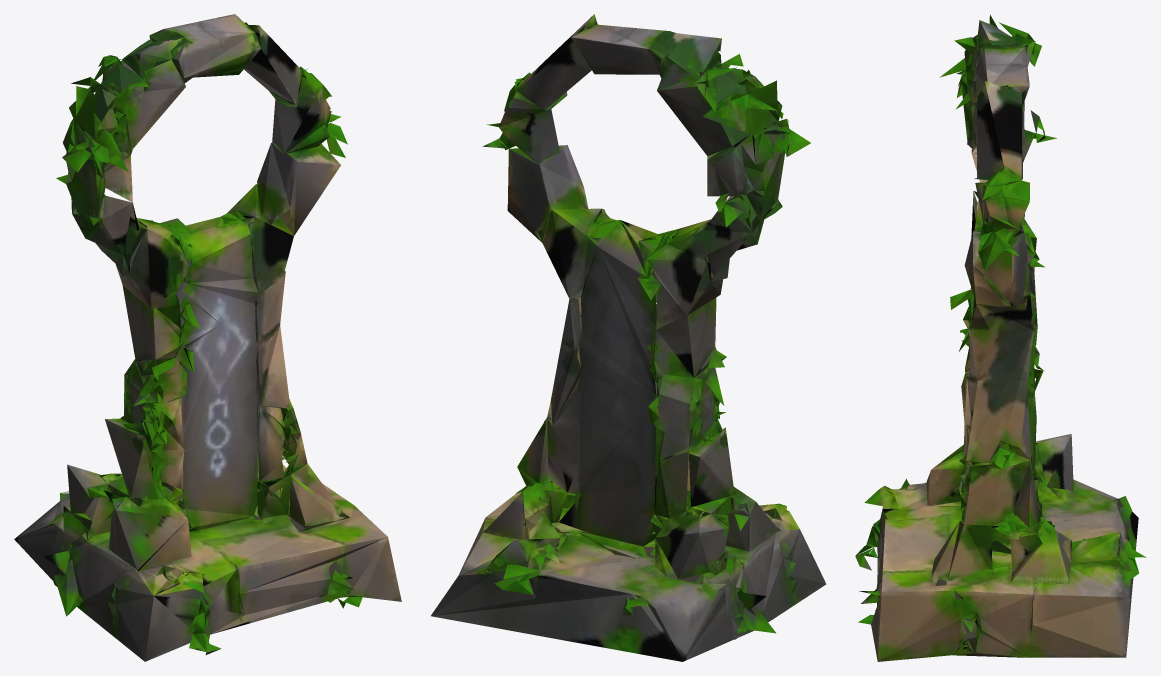
Rendered from shrine.tex.glb.
3 renders of one model, left to right at view 1: azimuth 30°, elevation 25°; view 2: azimuth 150°, elevation 25°; view 3: azimuth 270°, elevation 25°, orthographic. The views are drawn at different scales.
Visible parts, largest first — view 1: shrine; view 2: shrine; view 3: shrine.
Boxes of the visible parts, left/top/right/bottom form: shrine: left=14, top=14, right=401, bottom=661; shrine: left=431, top=14, right=826, bottom=661; shrine: left=855, top=14, right=1146, bottom=661.
Size of the model in its own units: 2.87 by 5.29 by 2.56.
1 material, 1 textured.
